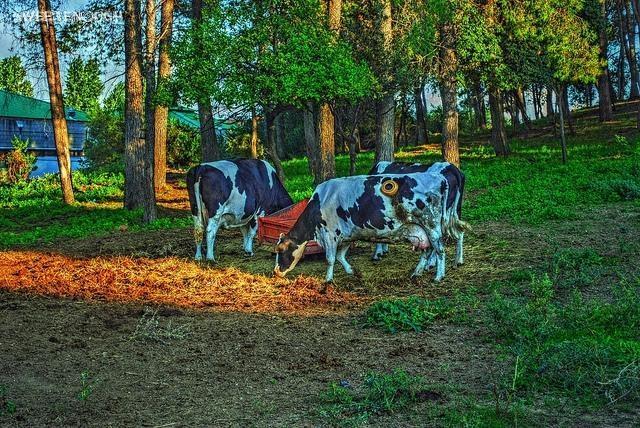car: (26, 156, 91, 180)
